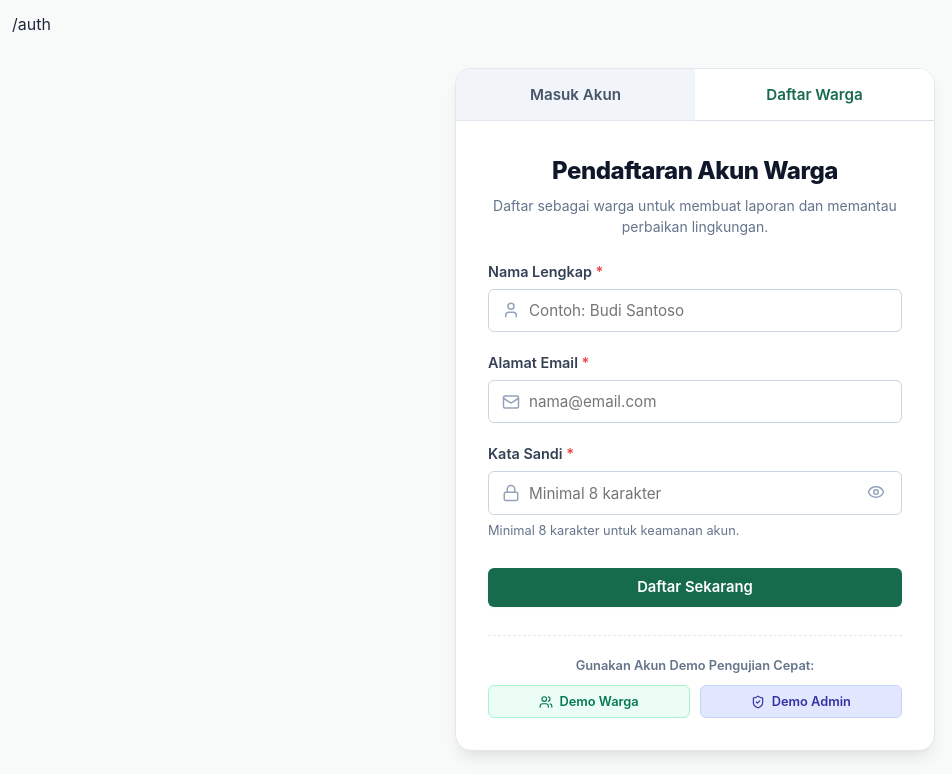
Scenario: AuthPage › supports initial register mode, switching back to login, and the warga demo shortcut
Expected: the heading "Pendaftaran Akun Warga" is shown, 552,156 -> 838,185
Click the button with test id "auth-login-mode" at (576, 94), box 456,69 -> 695,120
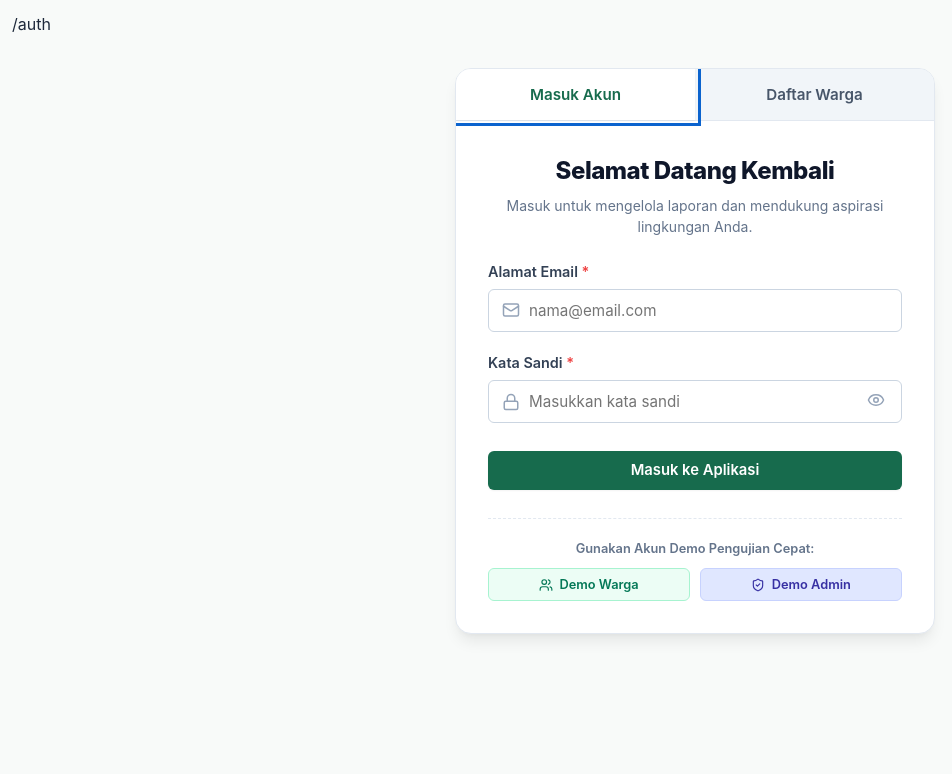
Expected: the heading "Selamat Datang Kembali" is shown, 556,156 -> 834,185
Click the button "Demo Admin" at (801, 585), box 700,568 -> 902,601
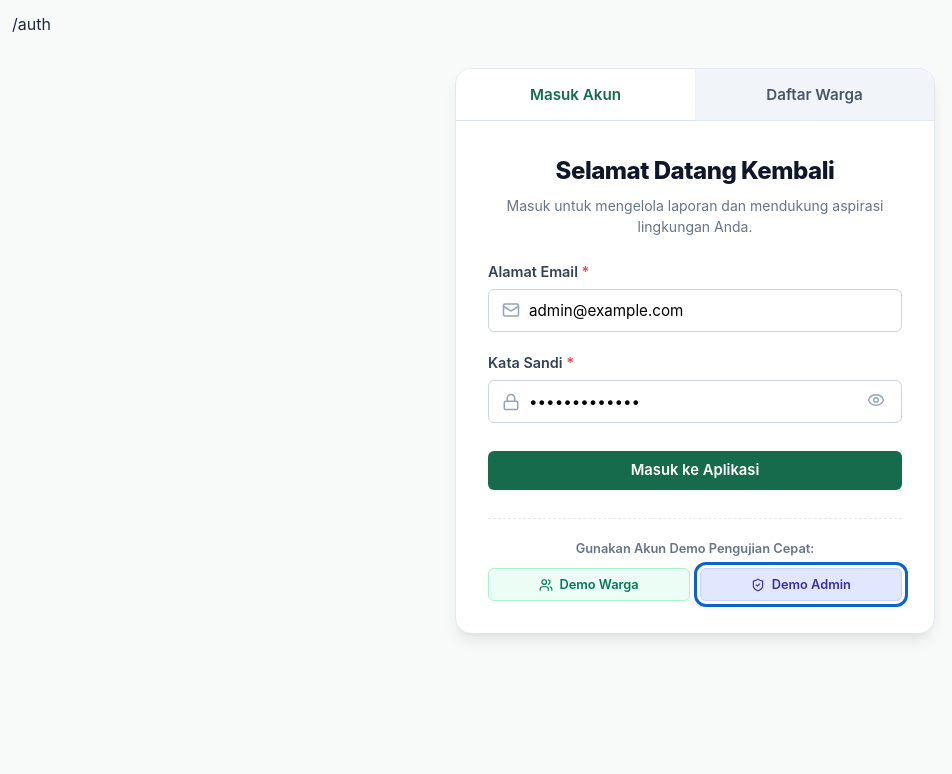
Expected: the field labelled "Alamat Email *" holds "admin@example.com", 488,289 -> 902,332
Expected: the password field labelled "Kata Sandi *" holds "AdminDemo123!", 488,380 -> 902,423
Click the button "Demo Warga" at (589, 585), box 488,568 -> 690,601
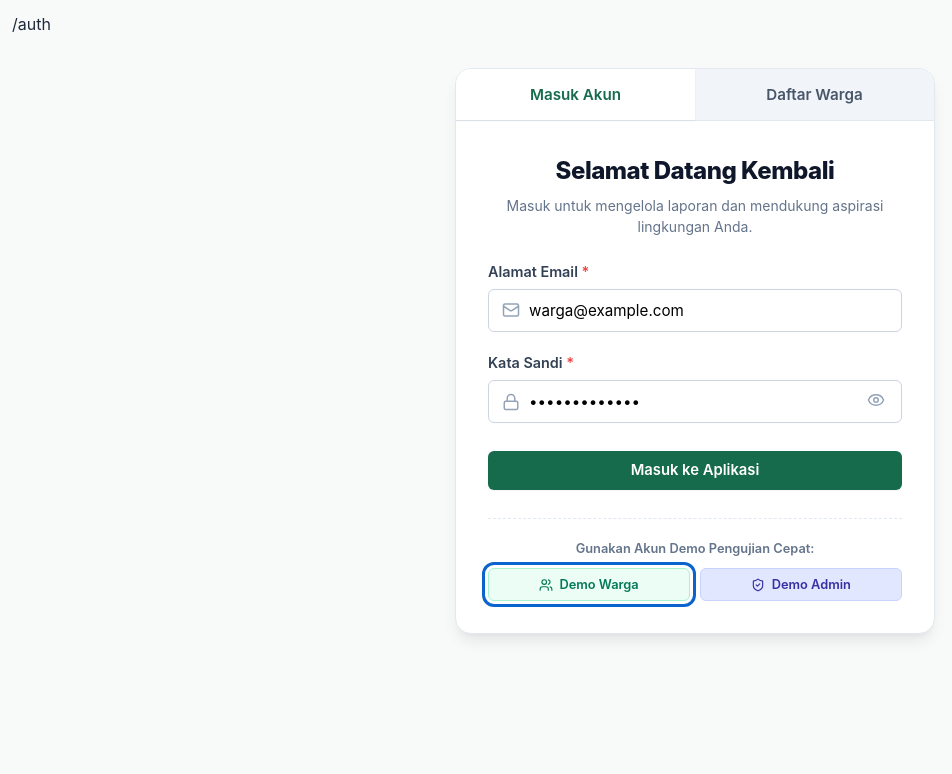
Expected: the password field labelled "Kata Sandi *" holds "WargaDemo123!", 488,380 -> 902,423
Expected: the field labelled "Alamat Email *" holds "warga@example.com", 488,289 -> 902,332
